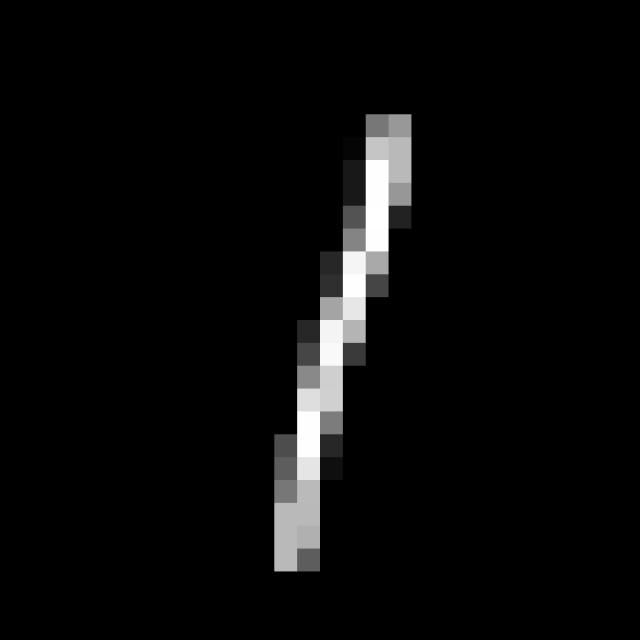one -1-: (252, 91, 415, 586)
